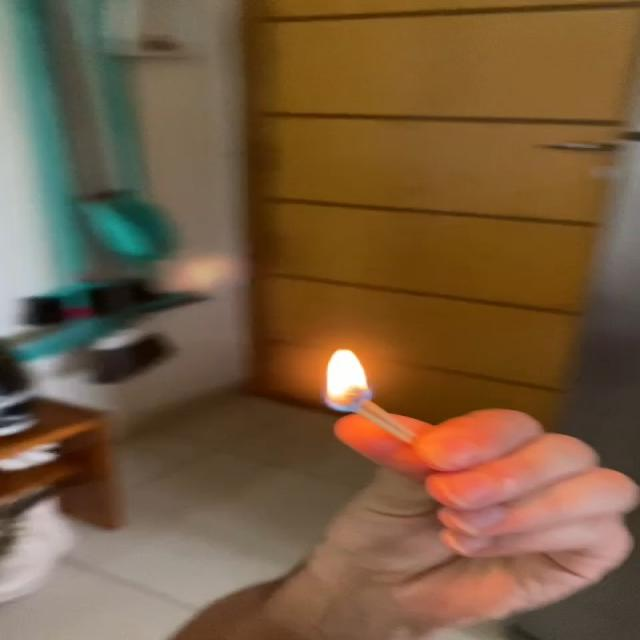fogo-ypXI: (322, 346, 372, 415)
